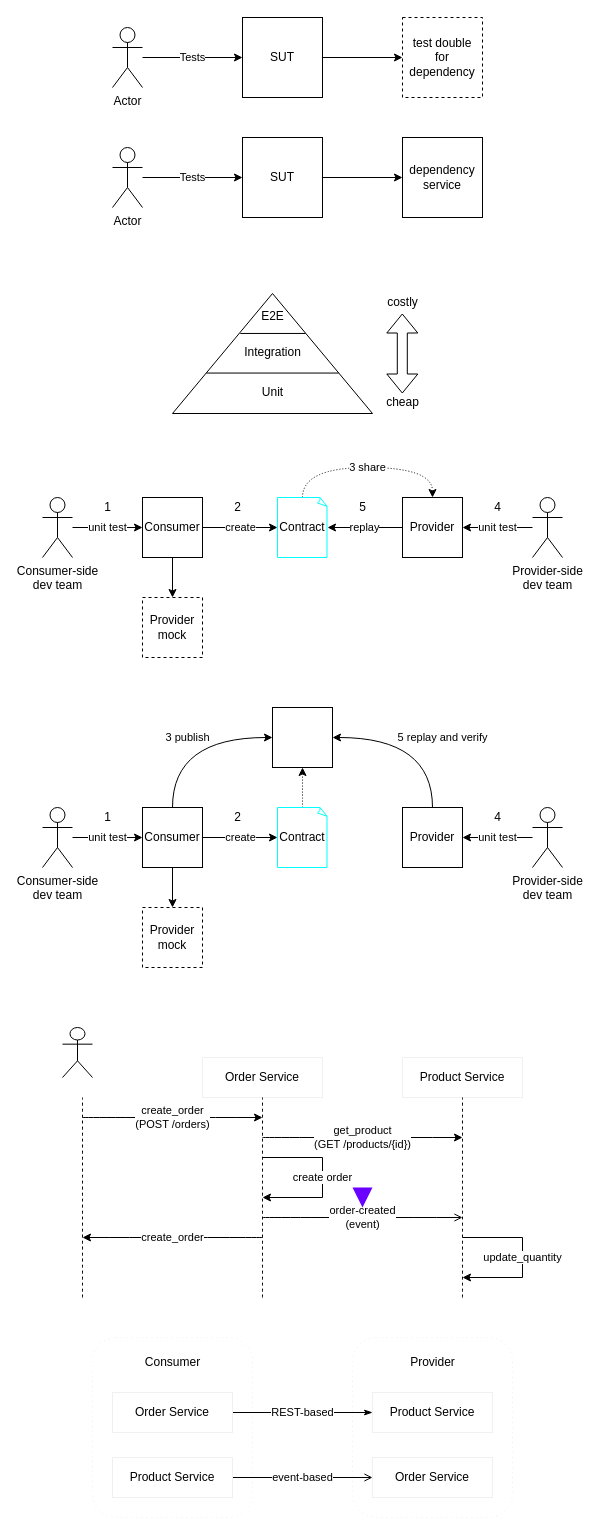
The diagram is 600 pixels wide and 1535 high, and some of its shapes have lost their labels. Here are the shapes that lost their labels. From the top down, the centre of each, then its label:
At (302,737): "Broker".
At (77,1052): "User".
